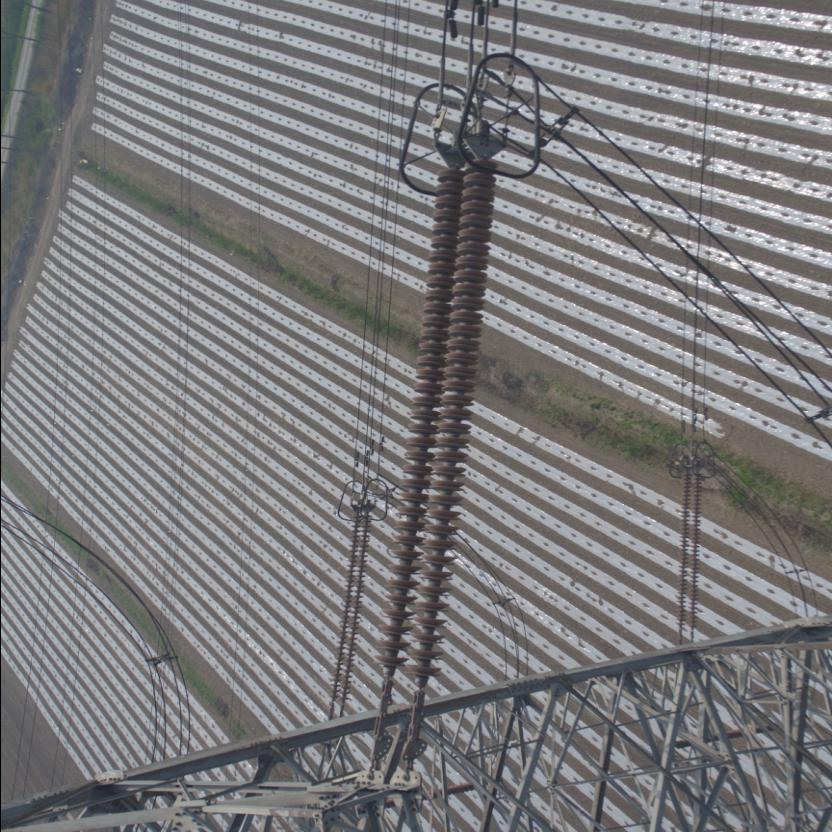insulator: (371, 152, 496, 704), (324, 516, 368, 712), (673, 475, 700, 644)
